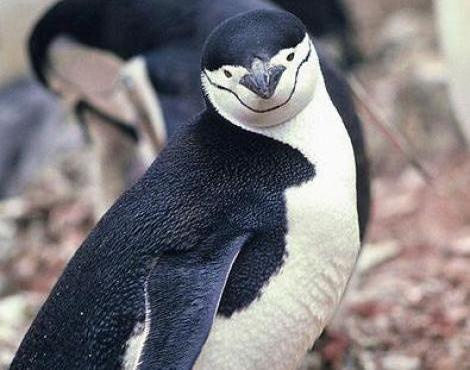chinstrap: (2, 18, 355, 370)
